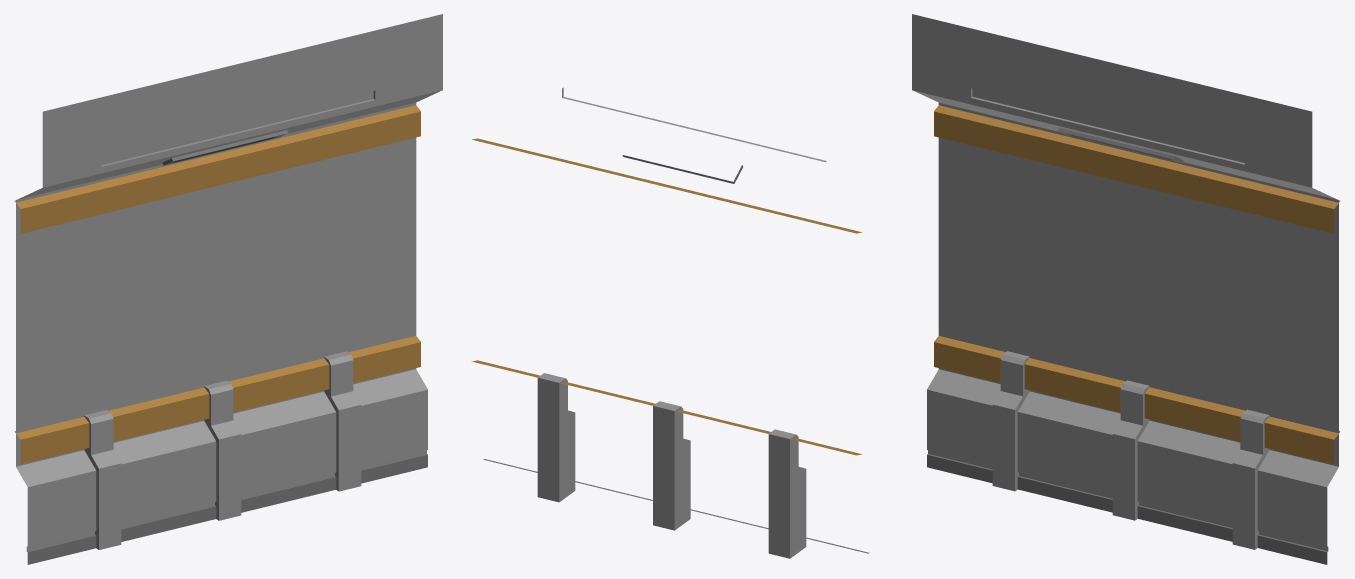
File: Wall_Empty.glb
3 renders of one model, left to right at view 1: azimuth 30°, elevation 25°; view 2: azimuth 150°, elevation 25°; view 3: azimuth 330°, elevation 25°, orthographic. The views are drawn at different scales.
Visible parts, largest first — view 1: Wall_Empty_Plane.111; view 2: Wall_Empty_Plane.111; view 3: Wall_Empty_Plane.111.
Boxes of the visible parts, <box> form: Wall_Empty_Plane.111: <box>14,14,442,564</box>; Wall_Empty_Plane.111: <box>471,87,869,558</box>; Wall_Empty_Plane.111: <box>912,14,1340,564</box>.
Bounding box in the file's own units: 4 × 4.43 × 0.4991.
